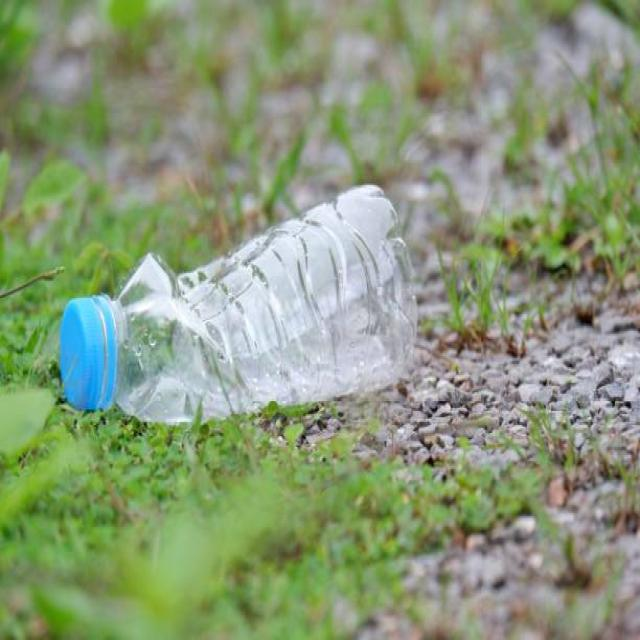plastic: (63, 189, 419, 433)
